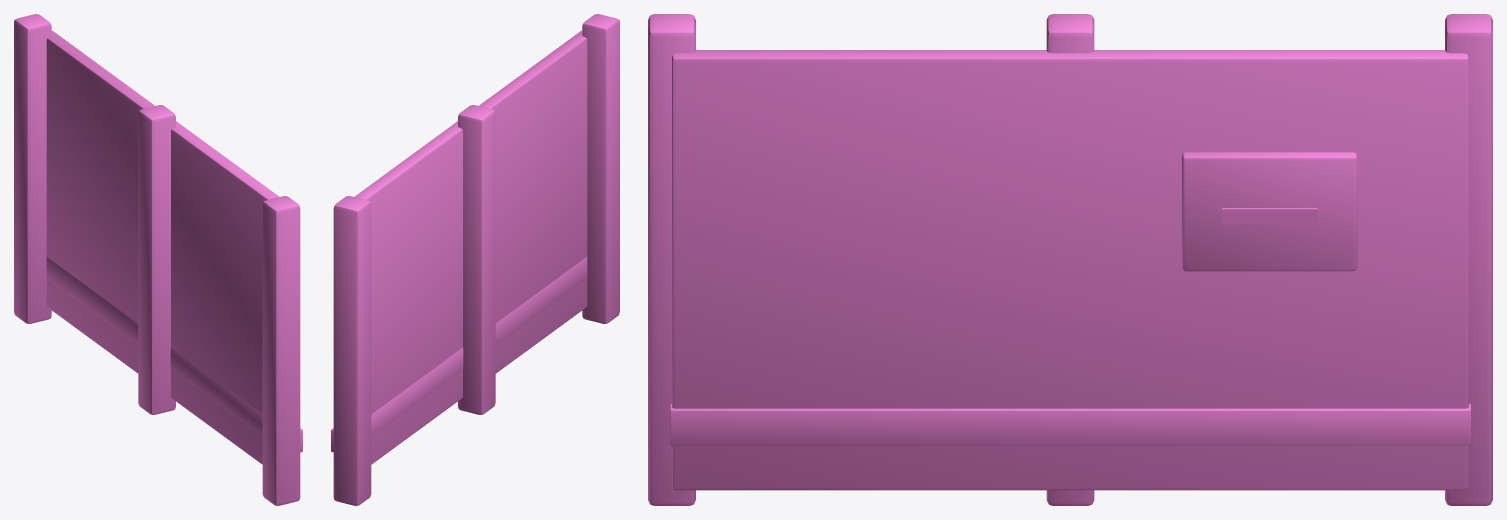
Rendered from Site_Hoarding.fbx.
The picture shows the model from 3 angles, left to right: view 1: azimuth 30°, elevation 25°; view 2: azimuth 150°, elevation 25°; view 3: azimuth 270°, elevation 25°; orthographic projection. The views are drawn at different scales.
Visible parts, largest first — view 1: Paint, Body; view 2: Paint, Body; view 3: Paint, Body.
Boxes of the visible parts, x1,y1,x2,y2 form: Paint: (46,30,279,464); Body: (14,14,302,505); Paint: (354,30,587,464); Body: (331,14,619,505); Paint: (672,50,1468,490); Body: (648,14,1492,505).
Size of the model in its own units: 0.945 by 6.6 by 10.6.
1 material, 1 textured.
